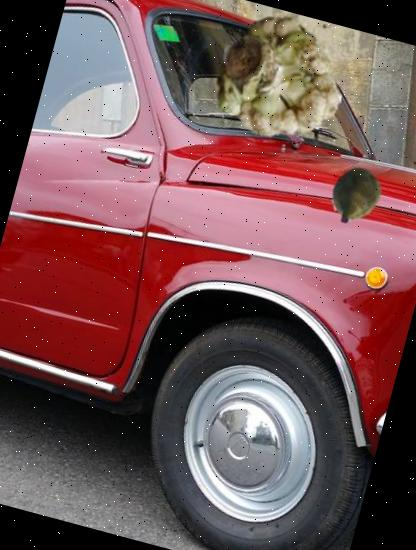Beetroot: (317, 160, 392, 234)
Cauliflower: (200, 0, 358, 157)
